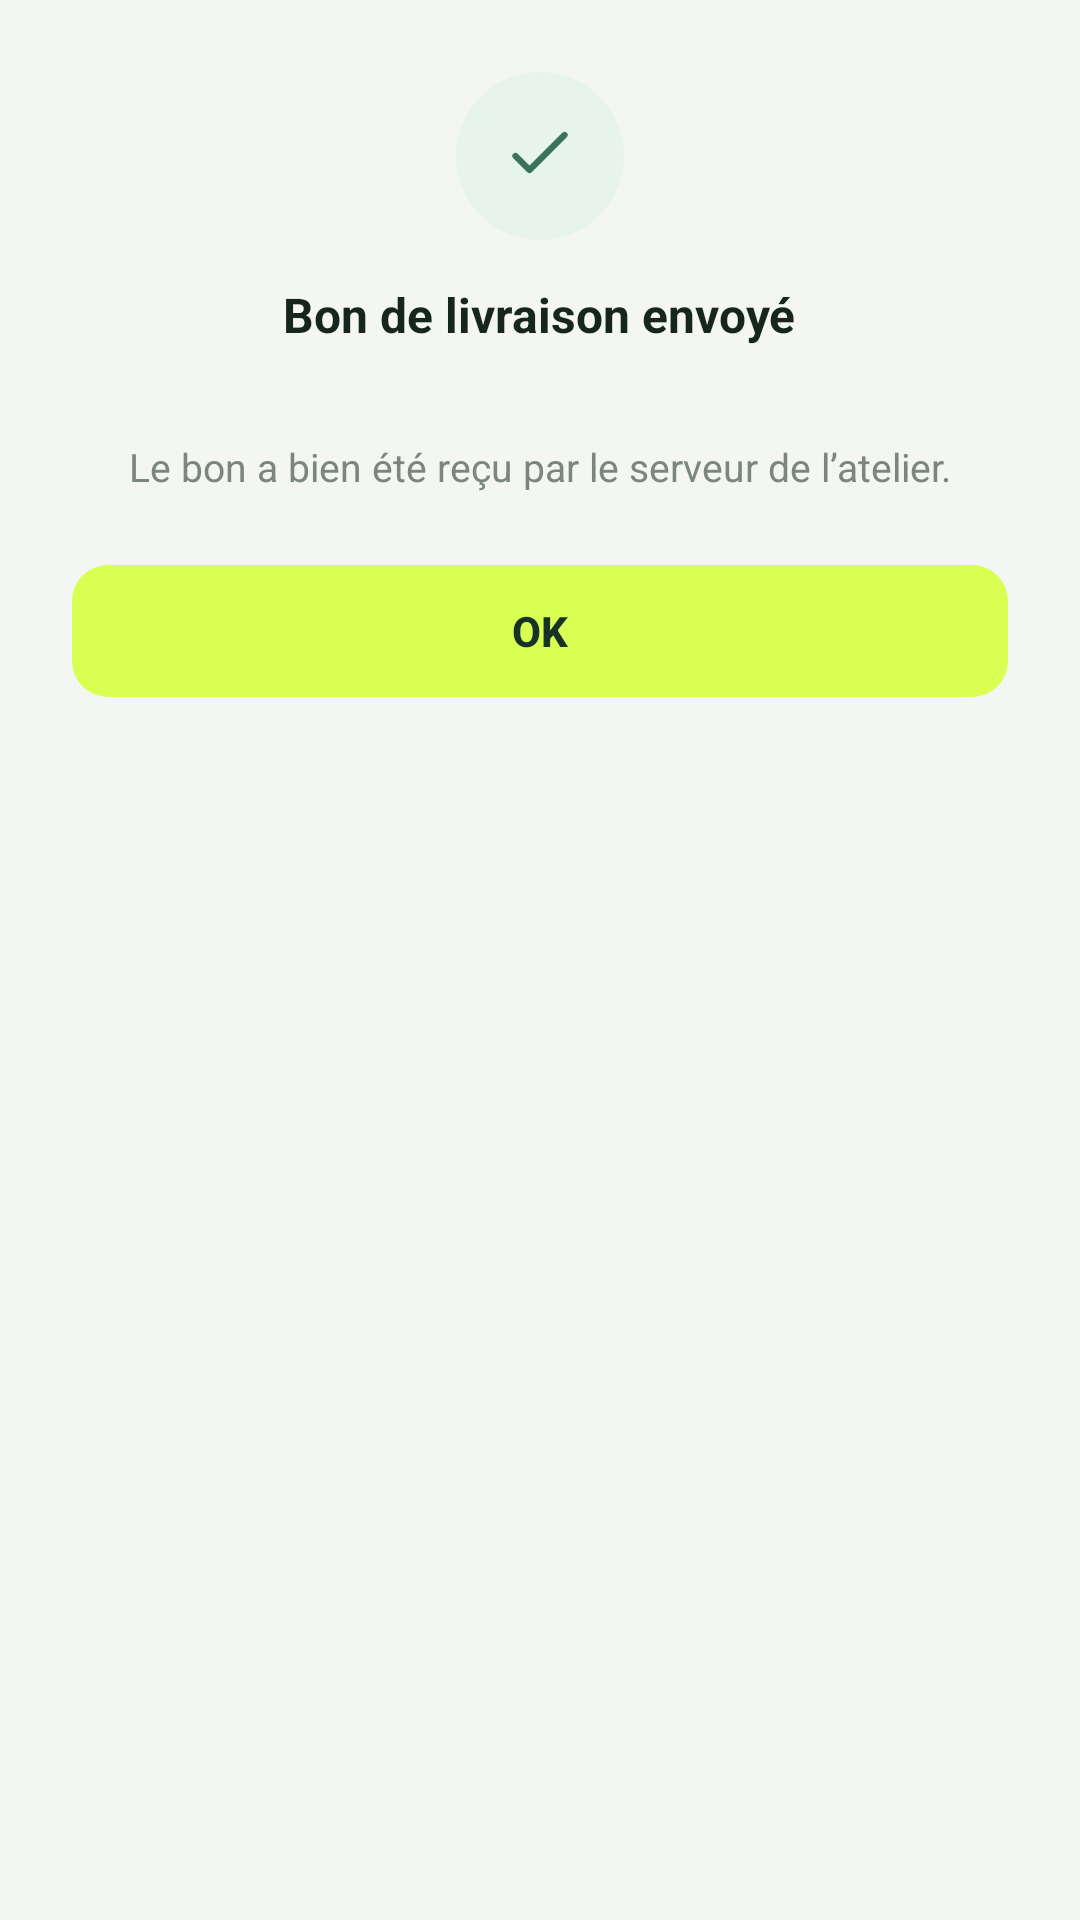

Icons on this 1080 x 1920 Android screen, each with its box as [x1=x1, y1=y1, x2=x2, y2=y2]:
coche: [x1=456, y1=72, x2=624, y2=240]
